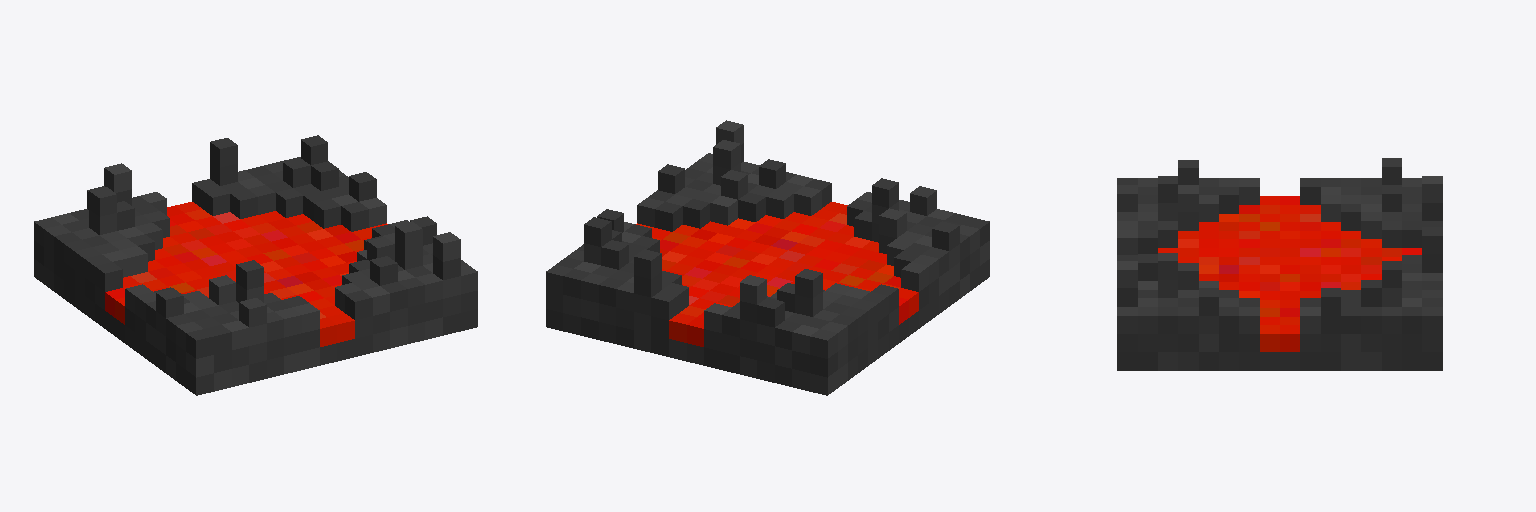
3 views of the same model, side by side, from view 1: azimuth 30°, elevation 25°; view 2: azimuth 150°, elevation 25°; view 3: azimuth 270°, elevation 25° (orthographic).
Visible parts, largest first — view 1: CaveX; view 2: CaveX; view 3: CaveX.
Part boxes in pixels (x1,y1,x2,y2): CaveX: (34, 135, 477, 395); CaveX: (546, 120, 989, 395); CaveX: (1117, 158, 1442, 370).
Bounding box in the file's own units: 16 × 5 × 16.
1 materials, 1 textured.